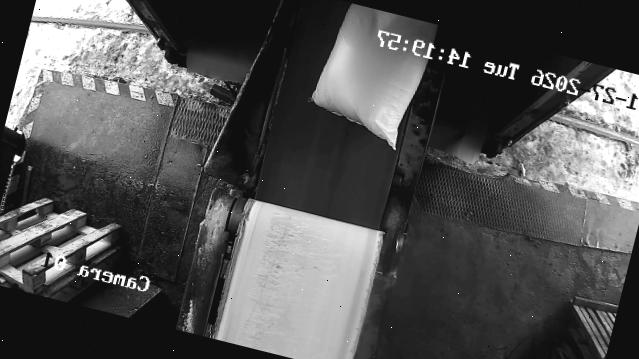bag: (302, 0, 435, 151)
